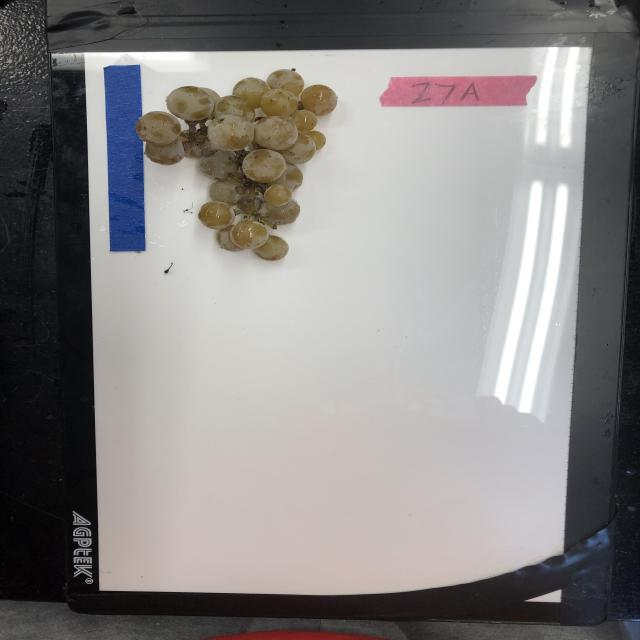grape_cluster: (136, 68, 337, 262)
index: (378, 75, 539, 108)
measure_label: (103, 63, 146, 253)
